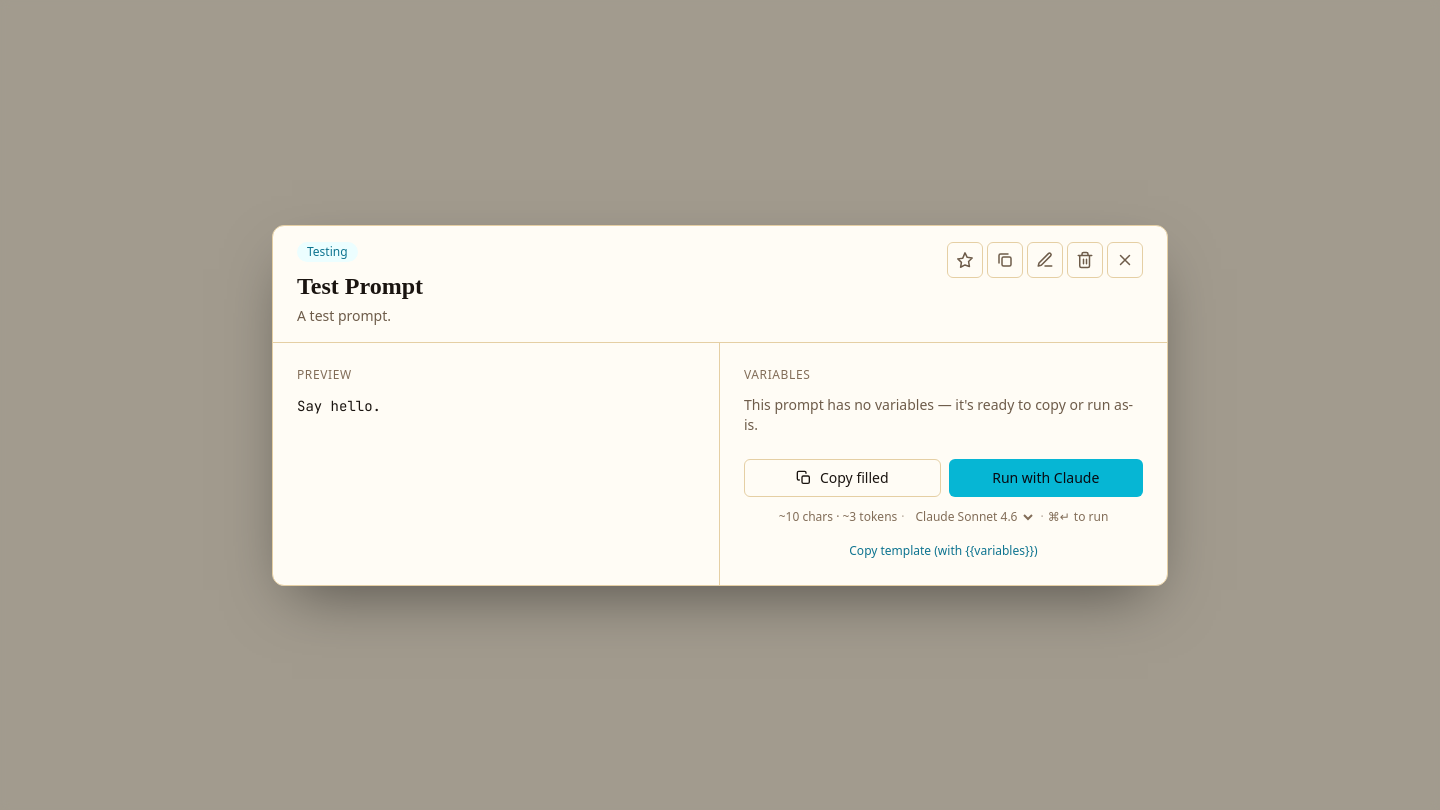
Test: PromptDetail — F-r2 rate-limit retry UI › shows an enabled 'Retry' button immediately when no retryAfterSeconds
Click the button "Run with Claude" at (1046, 478), box [948,458,1143,496]
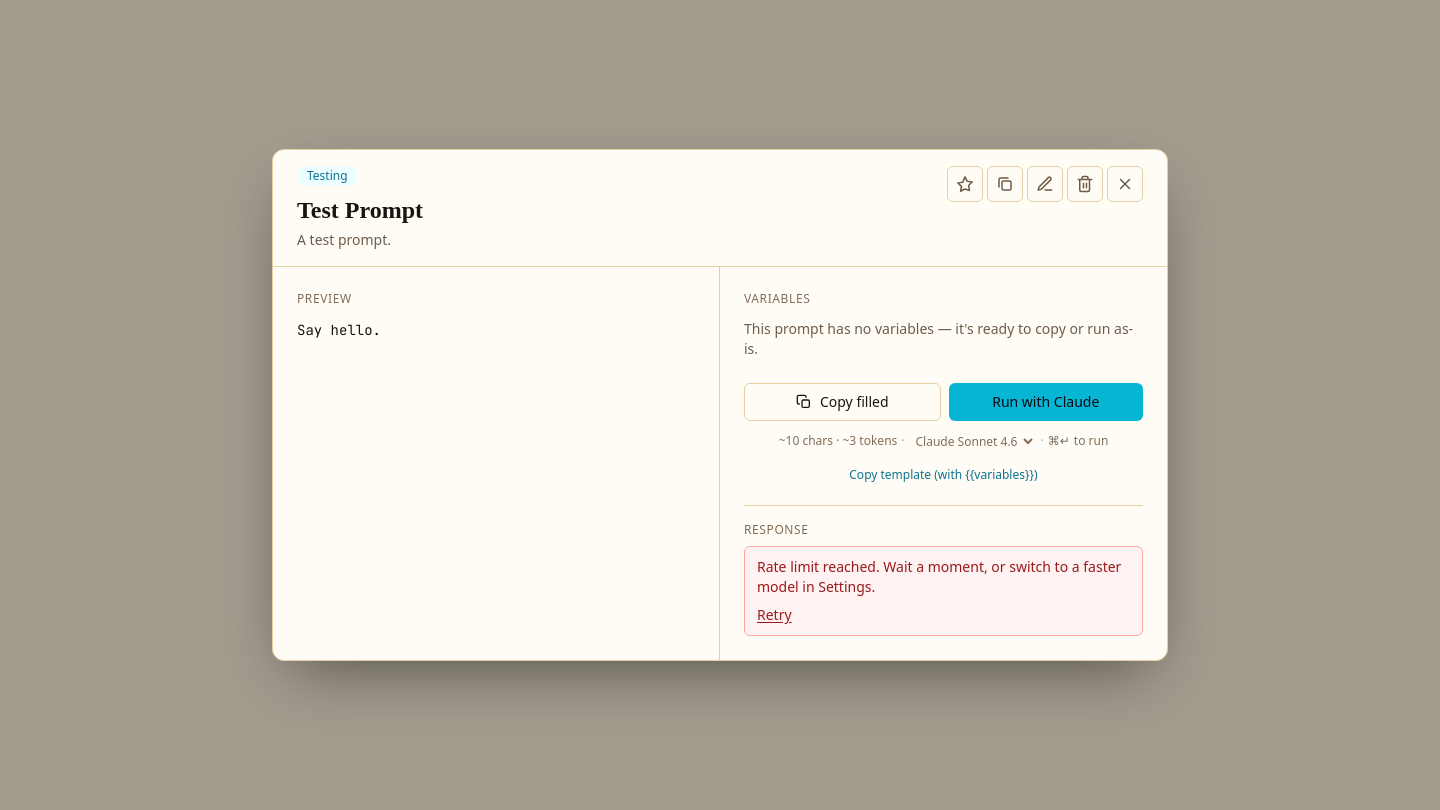
Expected: the button "Retry" is shown, [757,605,792,625]
